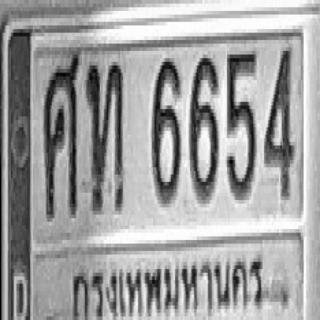A23: (86, 58, 124, 211)
A38: (44, 47, 79, 215)
N04: (264, 40, 294, 196)
N05: (226, 45, 256, 198)
N06: (189, 51, 218, 200), (152, 53, 181, 202)
P04: (67, 239, 268, 320)
